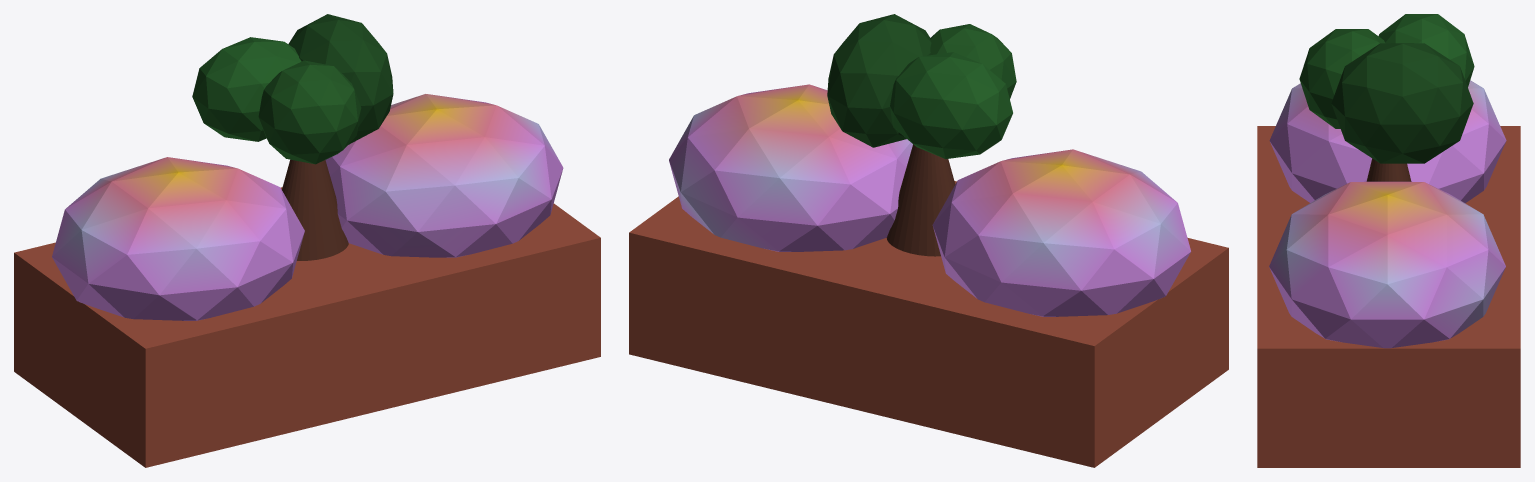
Rendered from Plantbox1_3.glb.
The picture shows the model from 3 angles, left to right: view 1: azimuth 30°, elevation 25°; view 2: azimuth 150°, elevation 25°; view 3: azimuth 270°, elevation 25°; orthographic projection. The views are drawn at different scales.
Parts seen in each view (by area): view 1: Cube, Icosphere.002, Icosphere.001, Icosphere, Icosphere.003, Icosphere.004, Cone; view 2: Cube, Icosphere.002, Icosphere.001, Icosphere.003, Icosphere.004, Cone, Icosphere; view 3: Cube, Icosphere.001, Icosphere.004, Icosphere.002, Icosphere, Icosphere.003, Cone.
Part boxes in pixels (x1,y1,x2,y2): Cube: (14,187,600,467); Icosphere.002: (52,157,304,320); Icosphere.001: (325,94,563,257); Icosphere: (258,60,361,164); Icosphere.003: (192,37,301,141); Icosphere.004: (288,14,393,144); Cone: (282,159,348,260); Cube: (629,181,1228,467); Icosphere.002: (932,149,1190,316); Icosphere.001: (669,84,912,251); Icosphere.003: (890,52,1012,159); Icosphere.004: (827,14,931,147); Cone: (886,144,955,256); Icosphere: (930,24,1016,98); Cube: (1257,126,1520,467); Icosphere.001: (1269,181,1505,348); Icosphere.004: (1331,43,1473,163); Icosphere.002: (1269,80,1506,203); Icosphere: (1299,29,1385,128); Icosphere.003: (1378,14,1474,87); Cone: (1366,158,1411,181).
Bounding box in the file's own units: 2.09 × 1.39 × 1.
